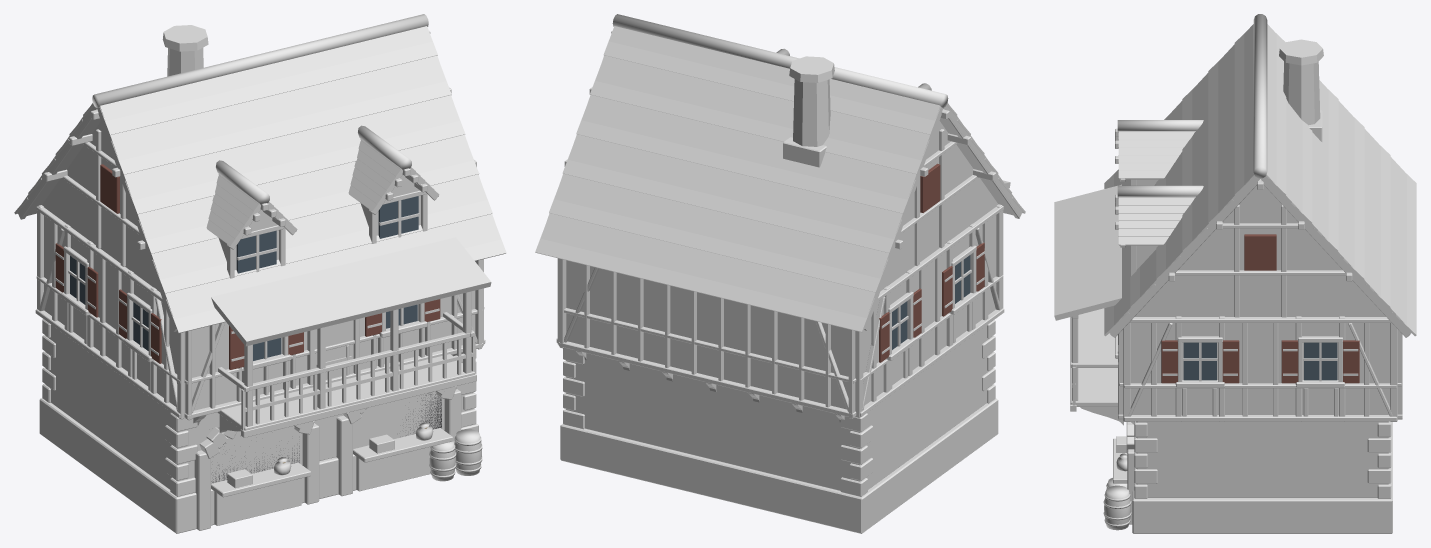
Rendered from ville_24_gouttereau_galerie_cour.fbx.
3 views of the same model, side by side, from view 1: azimuth 30°, elevation 25°; view 2: azimuth 150°, elevation 25°; view 3: azimuth 270°, elevation 25° (orthographic). The views are drawn at different scales.
Visible parts, largest first — view 1: ville_24_gouttereau_galerie_cour_LOD0; view 2: ville_24_gouttereau_galerie_cour_LOD0; view 3: ville_24_gouttereau_galerie_cour_LOD0.
Part boxes in pixels (x1,y1,x2,y2): ville_24_gouttereau_galerie_cour_LOD0: (14,14,506,533); ville_24_gouttereau_galerie_cour_LOD0: (535,14,1025,533); ville_24_gouttereau_galerie_cour_LOD0: (1054,14,1416,533).
Size of what is drawn, in the model's own units: 8.2 by 9.57 by 8.04.
